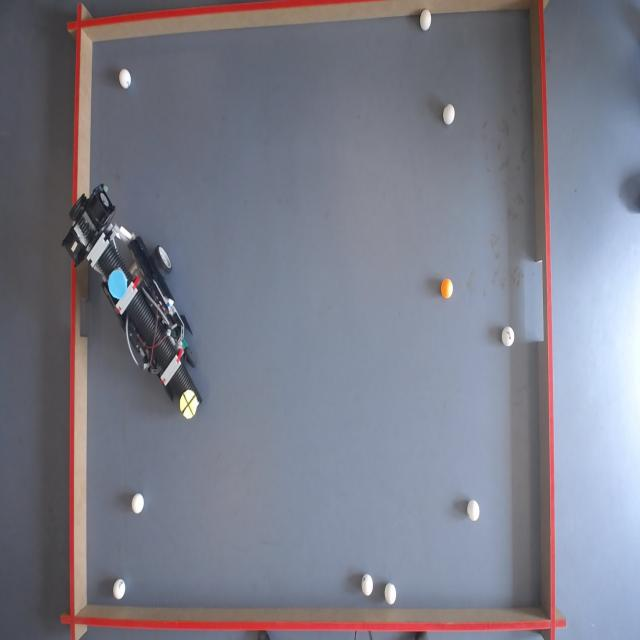orange: (443, 280, 455, 299)
robot: (64, 182, 203, 418)
robot-front: (182, 390, 197, 419)
robot-rear: (108, 269, 126, 301)
white: (384, 584, 398, 606), (467, 501, 481, 523), (132, 493, 146, 515), (112, 580, 126, 602), (361, 574, 374, 596), (118, 68, 131, 89), (420, 9, 433, 30), (445, 104, 457, 126), (502, 326, 514, 346)
